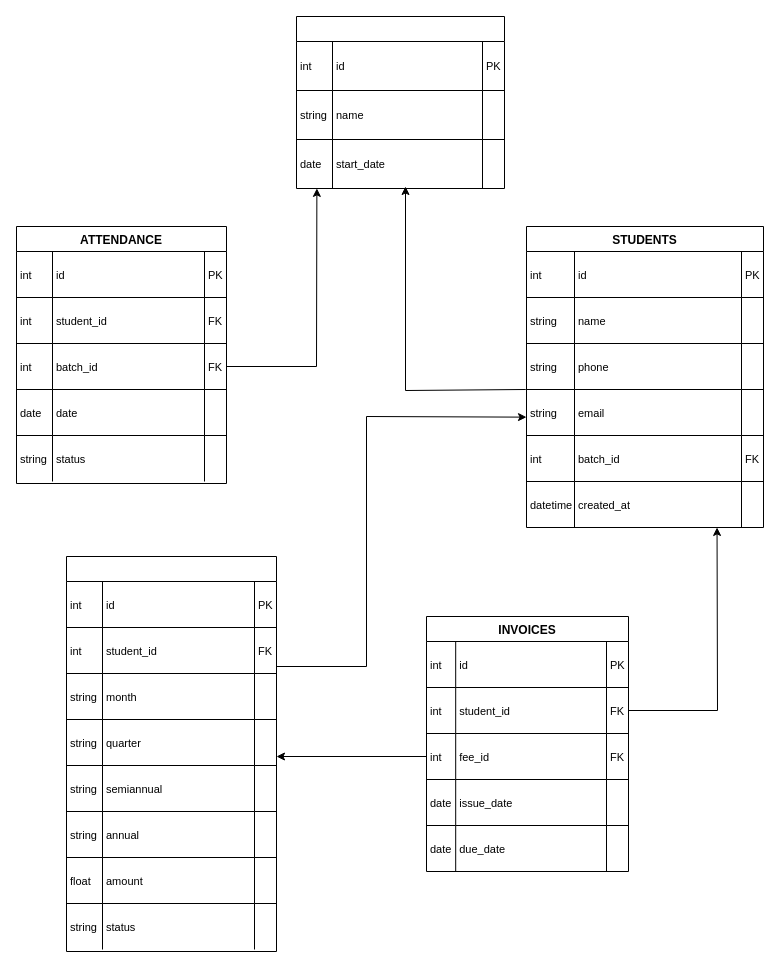
The diagram is 780 pixels wide and 968 high, and some of its shapes have lost their labels. Each missing label, with the box of its shape:
BATCHES: (296, 16, 504, 188)
FEES: (66, 556, 276, 952)
